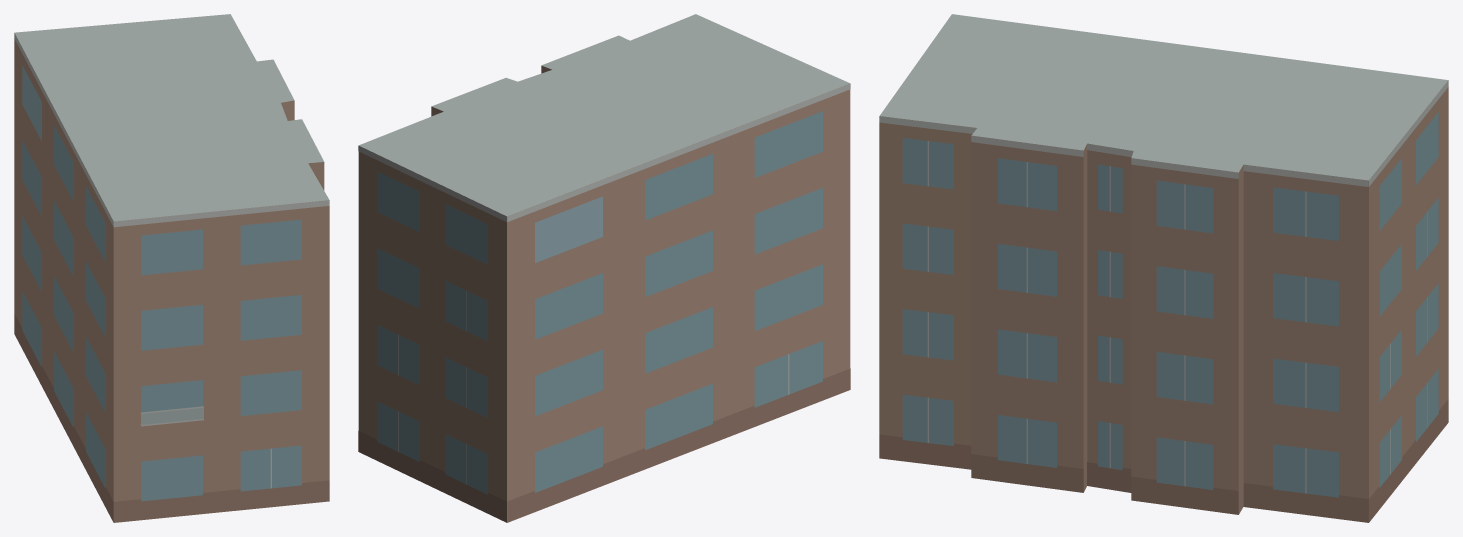
The model's file is survey-upis-33032899.glb.
3 renders of one model, left to right at view 1: azimuth 30°, elevation 25°; view 2: azimuth 150°, elevation 25°; view 3: azimuth 270°, elevation 25°, orthographic. The views are drawn at different scales.
Parts seen in each view (by area): view 1: survey-upis-33032899.tmp; view 2: survey-upis-33032899.tmp; view 3: survey-upis-33032899.tmp.
Boxes of the visible parts, <box> form: survey-upis-33032899.tmp: <box>14,14,329,522</box>; survey-upis-33032899.tmp: <box>358,14,850,522</box>; survey-upis-33032899.tmp: <box>879,14,1448,522</box>.
Size of the model in its own units: 13.36 by 12.8 by 19.29.
